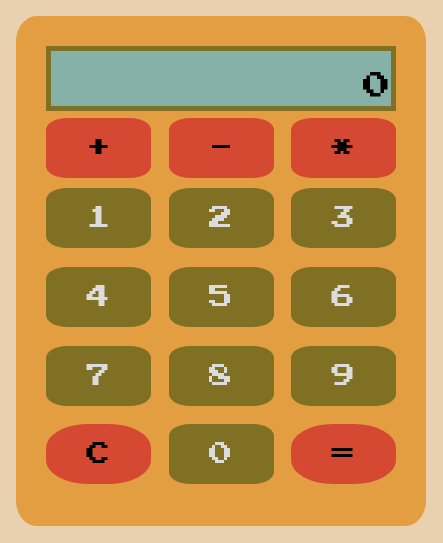
My first collection of test › clicks same button twice
Click the button "2" at (221, 218), box [168, 188, 274, 248]
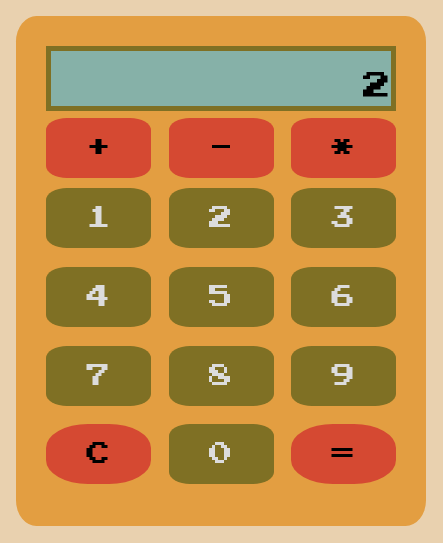
Click the button "2" at (221, 218), box [168, 188, 274, 248]
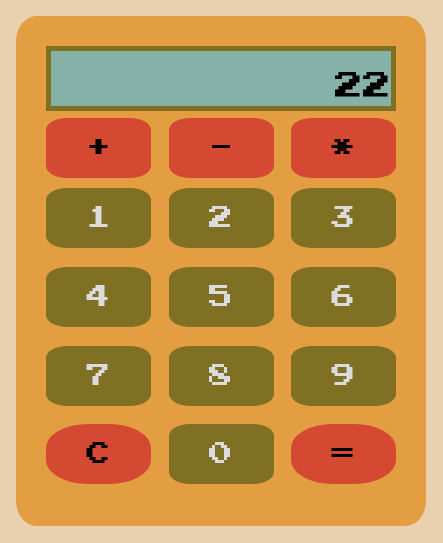
Result: the text with class "display" reads "22" at [335, 72, 391, 100]
